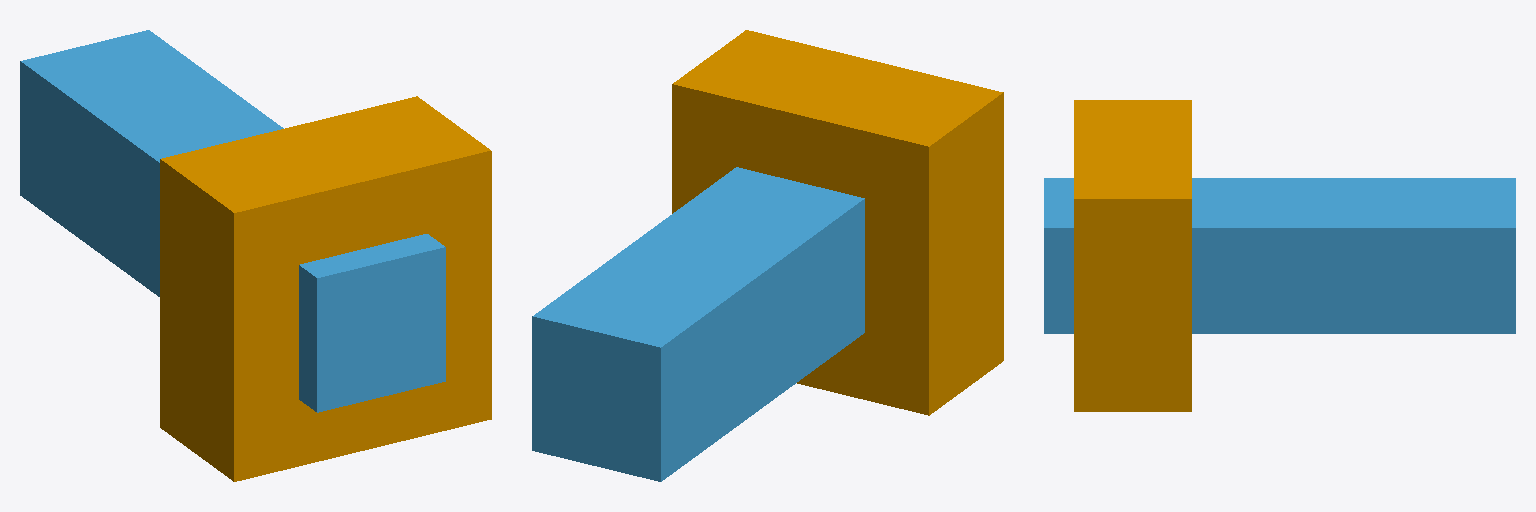
URDF robot description (sample-arm-01):
<?xml version="1.0"?>
<robot name="sample-arm-01">
  <link name="base">
    <visual>
      <geometry>
        <box size="0.4 0.2 0.4"/>
      </geometry>
    </visual>
  </link>
  <link name="link1">
    <visual>
      <geometry>
        <box size="0.2 0.8 0.2"/>
      </geometry>
    </visual>
  </link>

  <joint name="joint1" type="revolute">
    <parent link="base"/>
    <child link="link1"/>
    <origin xyz="0 0.25 0" rpy="0 0 0"/>
    <axis xyz="0 0 1"/>
    <limit lower="-1.57" upper="1.57" velocity="1"/>
  </joint>
</robot>

--- What the picture shows (computed from the rendered views, not written in the file) ---
3 views of the same robot in one strip: view 1: azimuth 30°, elevation 25°; view 2: azimuth 150°, elevation 25°; view 3: azimuth 270°, elevation 25° (orthographic).
Robot: sample-arm-01 — 2 links, 1 joints (1 revolute); root link base; default pose: every joint at zero.
Links seen in each view (by area): view 1: base, link1; view 2: base, link1; view 3: link1, base.
Boxes of the visible links, x1=… form: base: x1=160, y1=96, x2=491, y2=481; link1: x1=20, y1=30, x2=445, y2=412; base: x1=672, y1=30, x2=1003, y2=415; link1: x1=532, y1=167, x2=864, y2=481; link1: x1=1044, y1=178, x2=1515, y2=333; base: x1=1074, y1=100, x2=1191, y2=411.
Size in the robot's own frame: 0.4 by 0.8 by 0.4 metres.
Geometry: primitives only (box / cylinder / sphere), no mesh files.